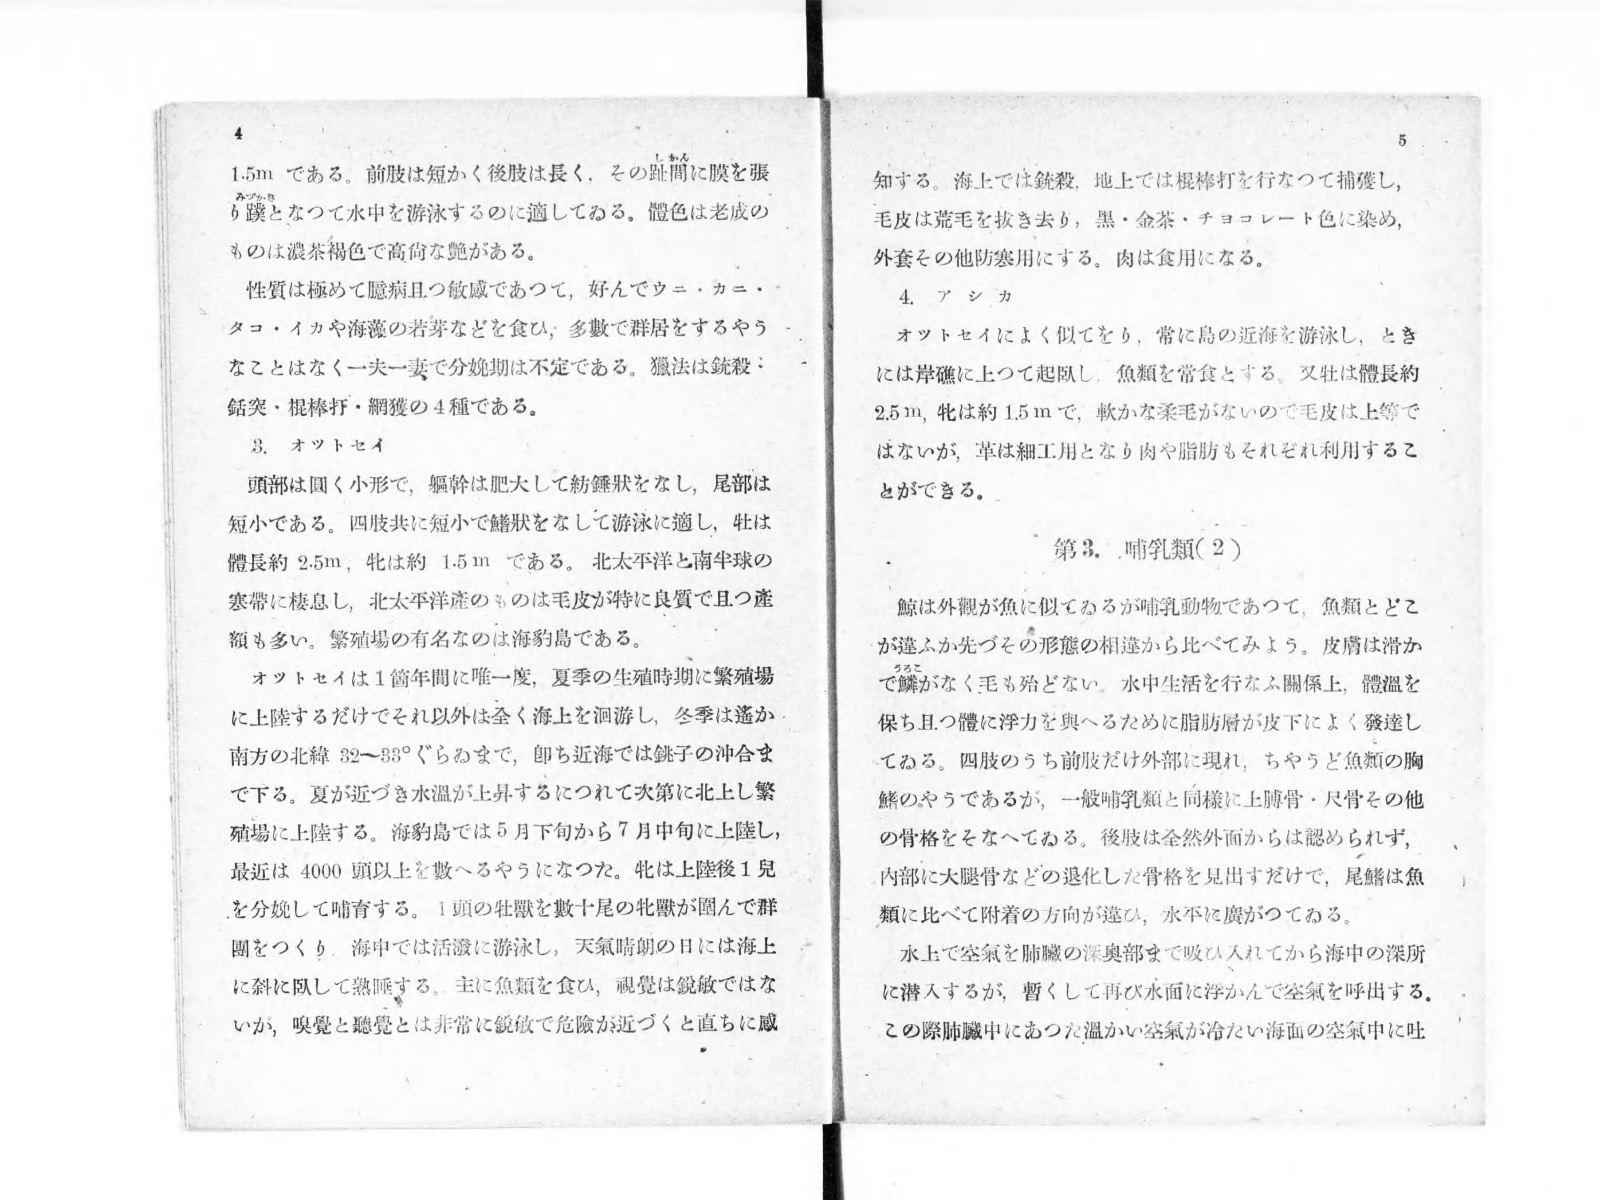1_overall: (159, 95, 1484, 1129)
6_headline: (1054, 538, 1238, 561), (253, 437, 380, 455), (900, 287, 1010, 305)
8_textline: (232, 193, 769, 224), (233, 153, 769, 183), (234, 976, 775, 1005), (879, 666, 1419, 695), (232, 937, 776, 961), (229, 589, 774, 613), (234, 1013, 777, 1037), (231, 742, 772, 766), (231, 509, 770, 533), (231, 357, 762, 381), (874, 168, 1398, 192), (231, 821, 779, 843), (231, 782, 775, 804), (231, 858, 775, 881), (881, 865, 1424, 887), (228, 550, 771, 572), (232, 705, 774, 727), (886, 1021, 1425, 1044), (248, 473, 770, 495), (254, 666, 774, 688), (233, 897, 777, 919), (878, 441, 1417, 463), (231, 318, 765, 339), (879, 828, 1409, 850), (883, 982, 1429, 1002), (879, 789, 1424, 809), (876, 403, 1419, 424), (877, 364, 1419, 384), (881, 751, 1422, 771), (878, 713, 1419, 734), (901, 943, 1425, 963), (246, 280, 761, 300), (878, 637, 1421, 655), (876, 211, 1401, 229), (898, 597, 1419, 616), (897, 326, 1415, 345), (879, 905, 1348, 925), (231, 629, 637, 649), (874, 250, 1261, 268), (232, 242, 533, 263), (228, 397, 535, 417), (881, 482, 981, 500), (1398, 126, 1419, 146), (233, 127, 252, 140)
